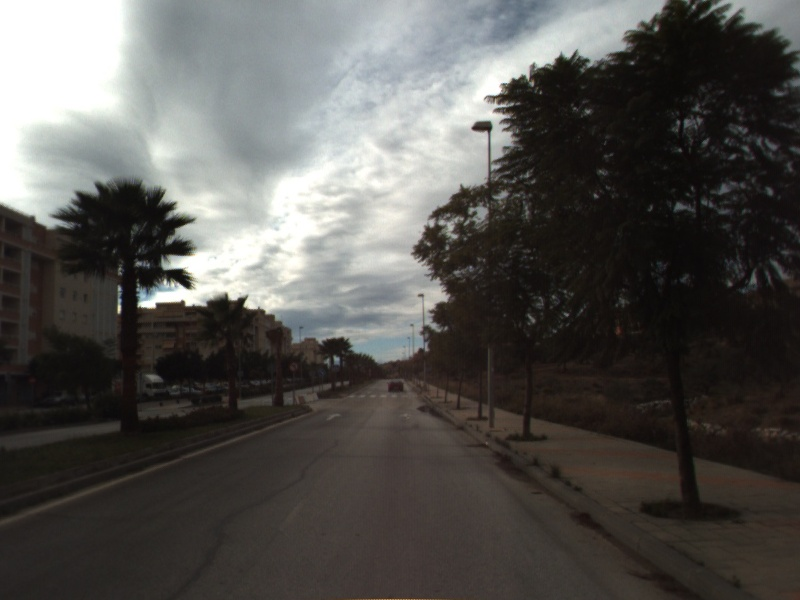STRAIGHT: (324, 411, 345, 422)
